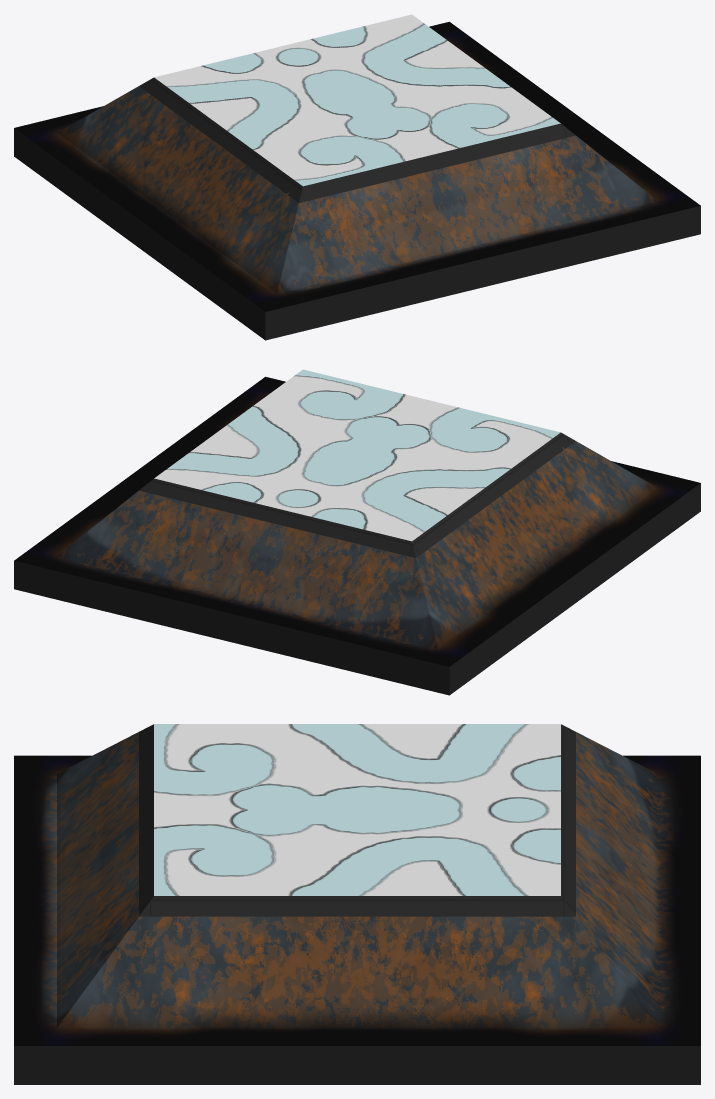
Rendered from PressurePad_Prototype.fbx.
3 renders of one model, top to bottom at view 1: azimuth 30°, elevation 25°; view 2: azimuth 150°, elevation 25°; view 3: azimuth 270°, elevation 25°, orthographic. The views are drawn at different scales.
Visible parts, largest first — view 1: PressurePadSwitch; view 2: PressurePadSwitch; view 3: PressurePadSwitch.
Part boxes in pixels (box(x1,y1,x2,y2)): PressurePadSwitch: box(14, 14, 700, 340); PressurePadSwitch: box(14, 369, 700, 695); PressurePadSwitch: box(14, 724, 700, 1084).
Size of the model in its own units: 46.56 by 9.7 by 46.56.
Materials: 2 (2 with a texture image).
